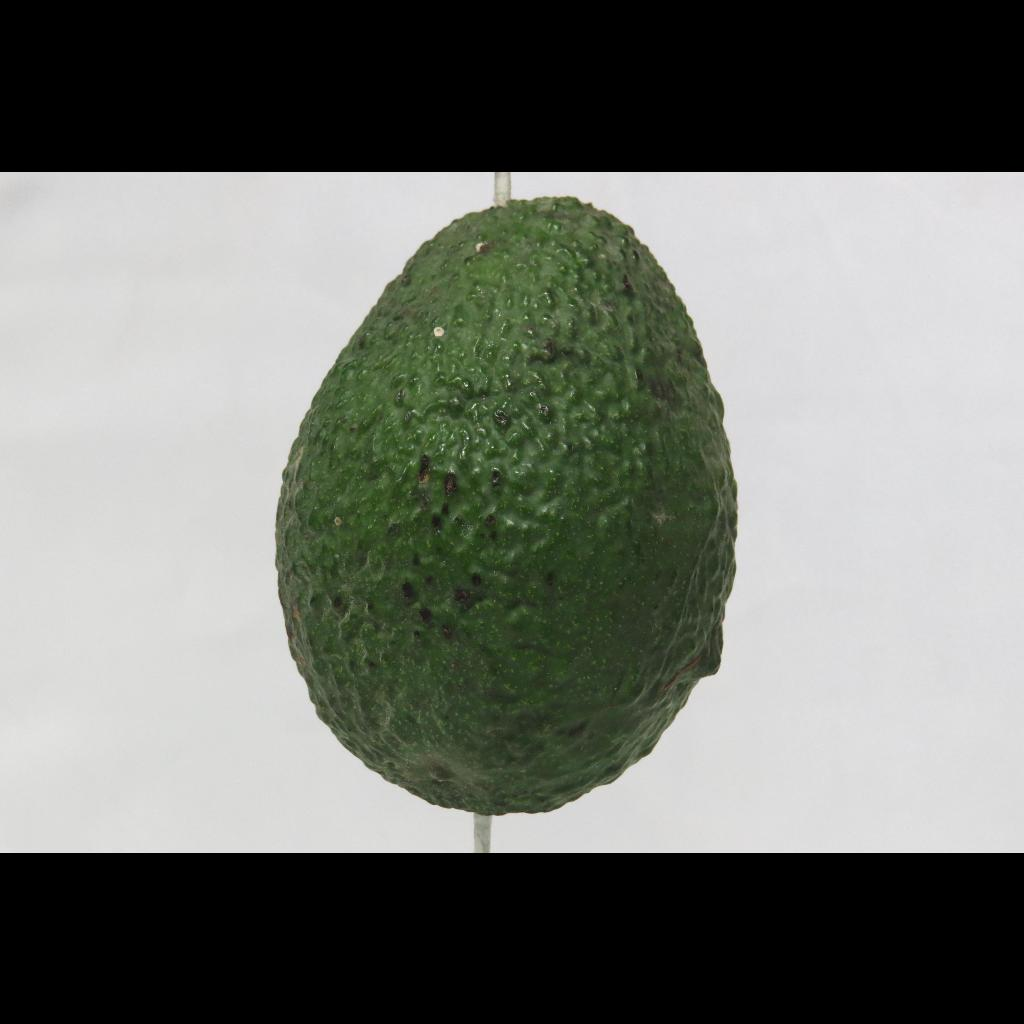Healthy: (226, 182, 776, 836)
